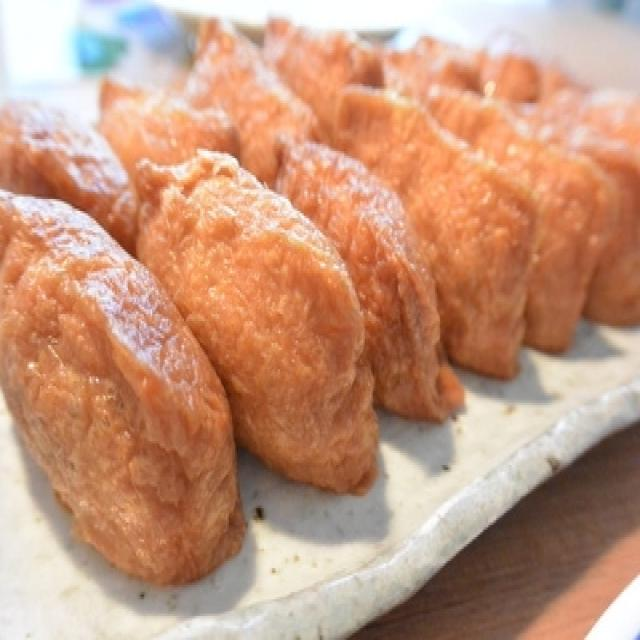寿司卷物: (4, 19, 634, 602)
